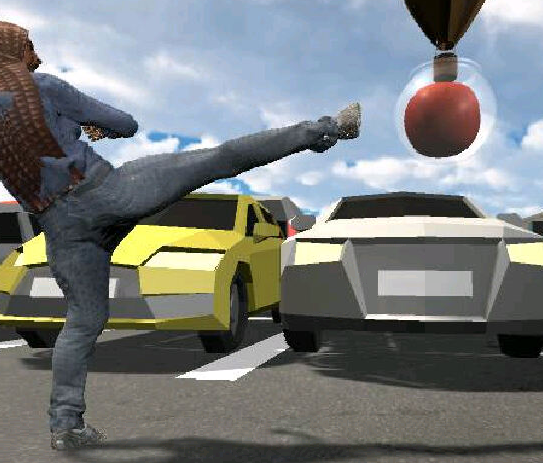turn_right: (1, 23, 366, 458)
